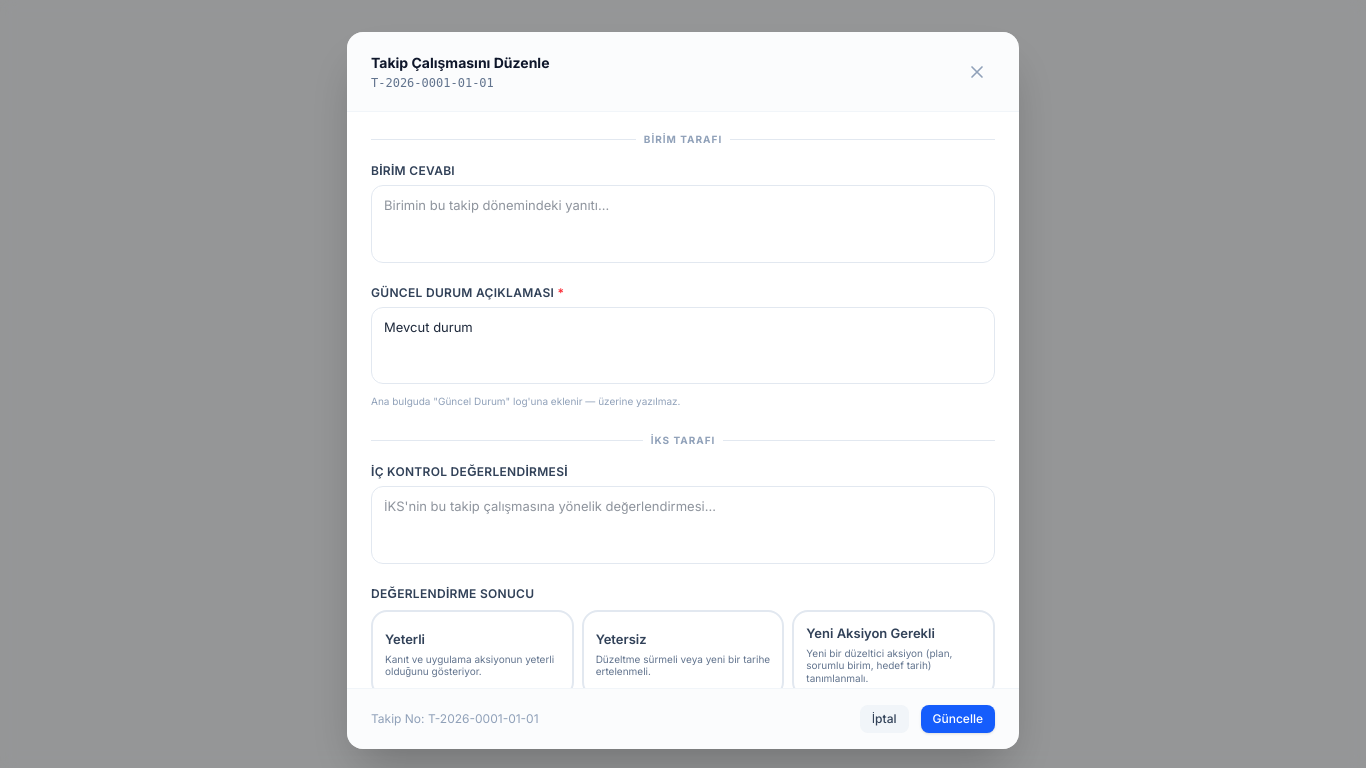
Bulgu takip değerlendirme formu › YETERLI sonucunu açıkça kaydeder ve kullanıcıdan kapanış kararı istemez
This screenshot has width=1366, height=768.
Click the button "Yeterli": (472, 654) [371,610,574,698]
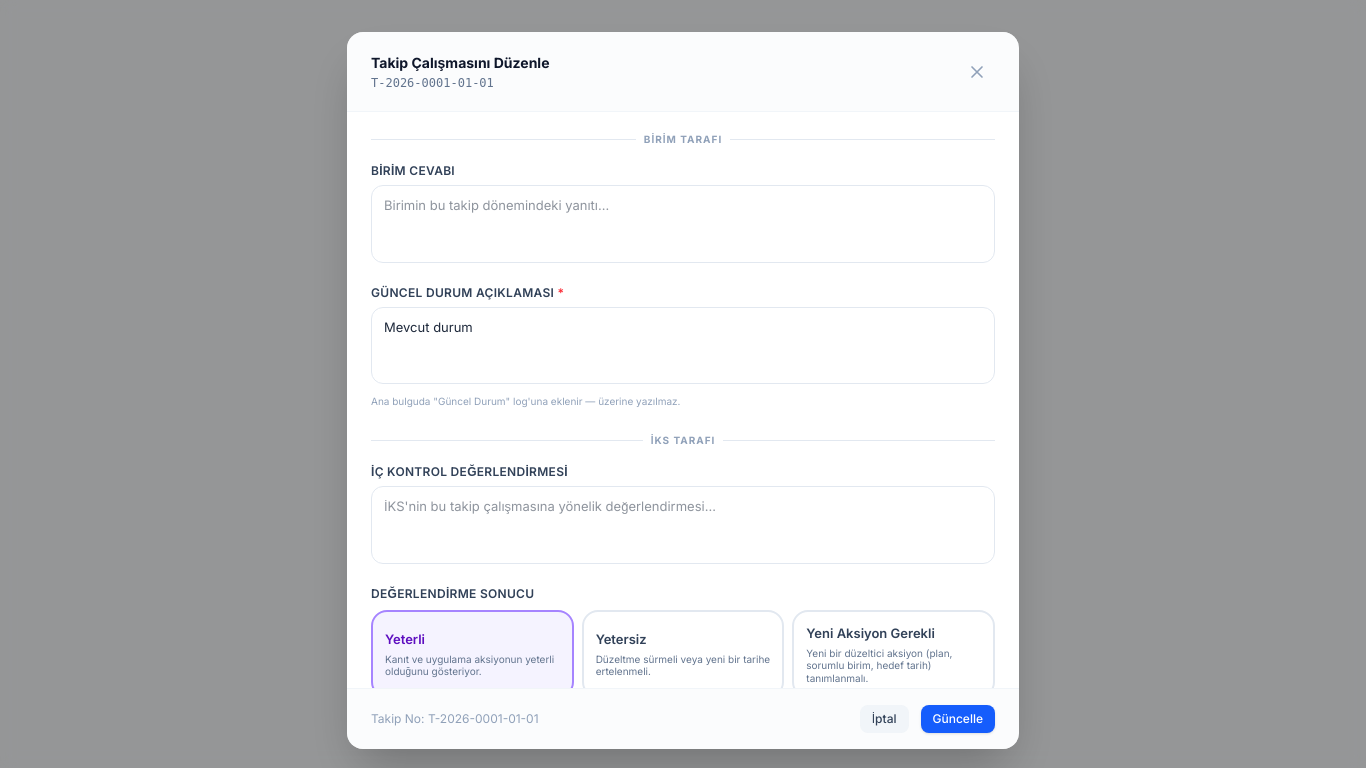
Click the button "Güncelle": (958, 719) [920,705,995,733]
(page scrolled)
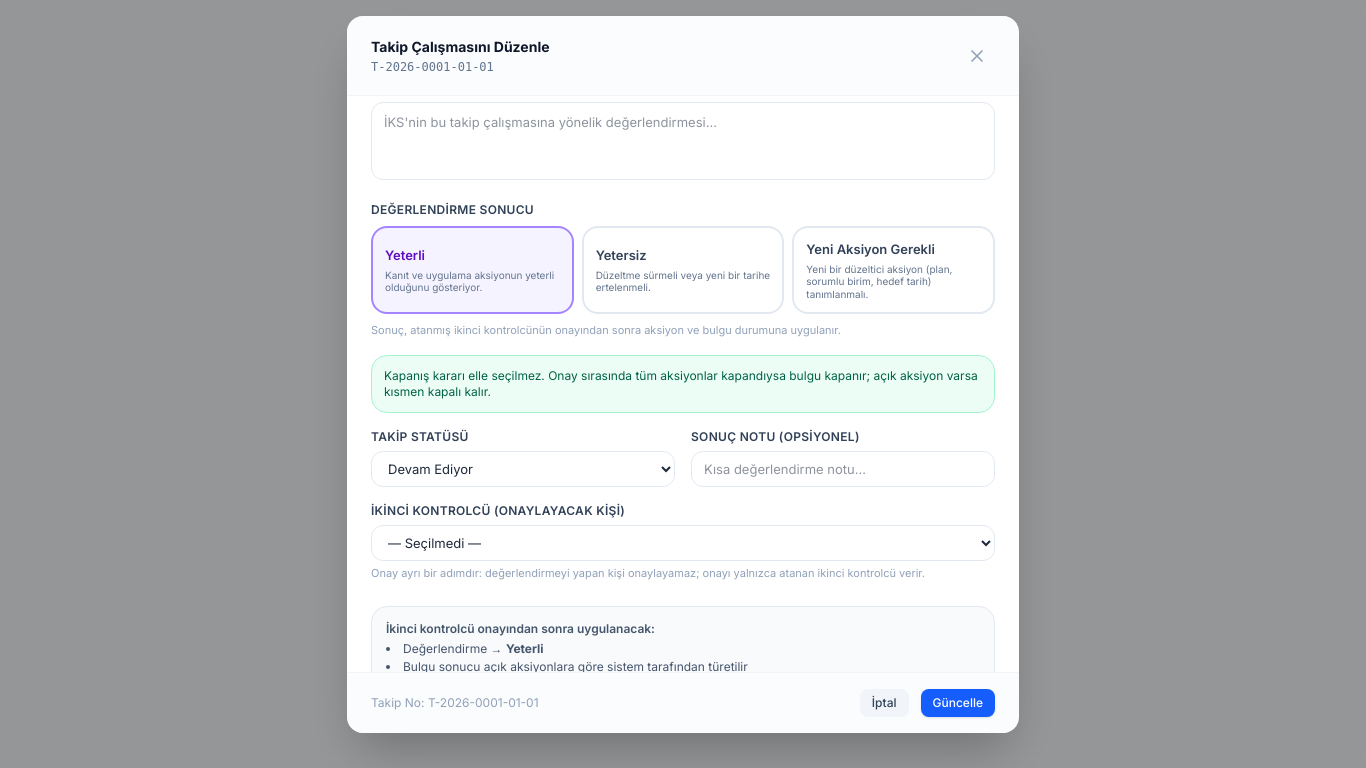
Result: the text "Kapanış kararı elle seçilmez" is shown at [384,368,978,399]
